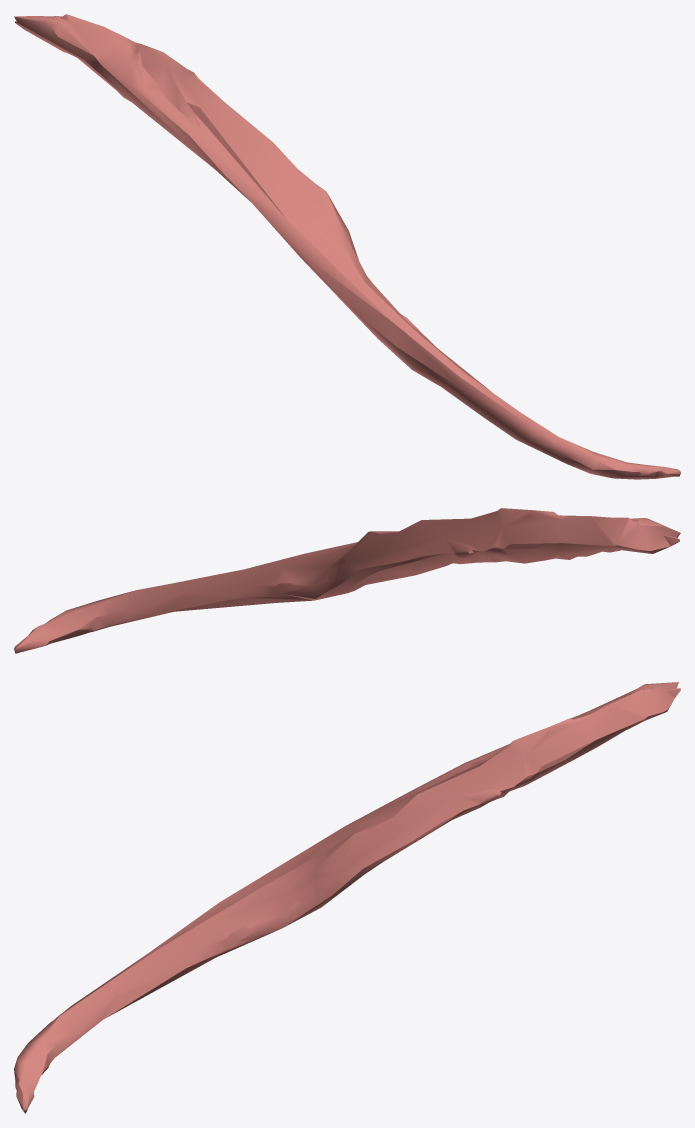
The model's file is fma37746_fj1384m.glb.
The picture shows the model from 3 angles, top to bottom: view 1: azimuth 30°, elevation 25°; view 2: azimuth 210°, elevation 25°; view 3: azimuth 270°, elevation 25°; orthographic projection. The views are drawn at different scales.
Parts seen in each view (by area): view 1: FMA37746_FJ1384M; view 2: FMA37746_FJ1384M; view 3: FMA37746_FJ1384M.
Part boxes in pixels (x1,y1,x2,y2): FMA37746_FJ1384M: (14,14,680,479); FMA37746_FJ1384M: (14,508,680,653); FMA37746_FJ1384M: (14,682,680,1113).
Size of the model in its own units: 0.027 by 0.0236 by 0.0495.
